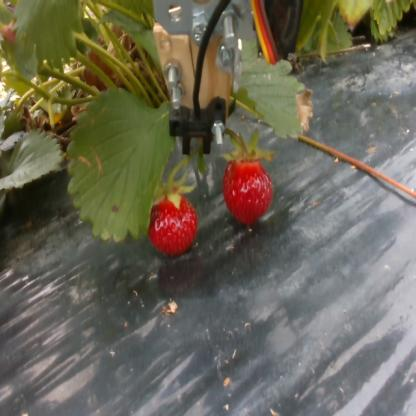ripe: (225, 157, 271, 224), (149, 193, 197, 253)
